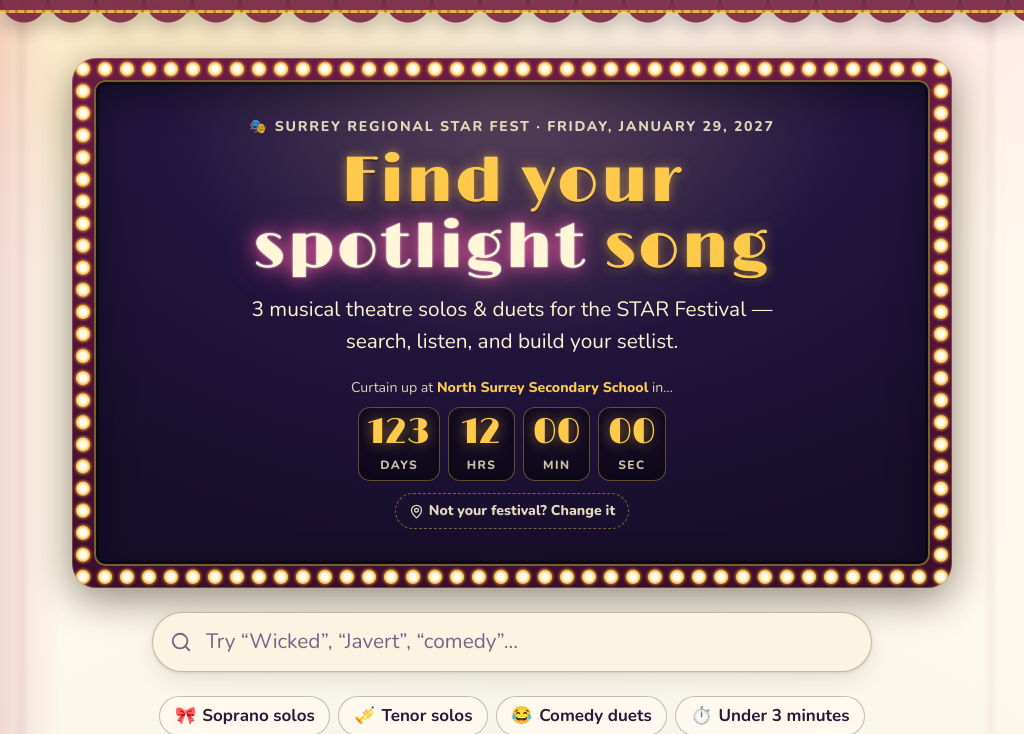
Test: HomePage festival hero (SPEC §7b) › “Not your festival? Change it” reveals the chips
Click the button with test id "home-change-festival": (512, 511) [395,493,629,529]
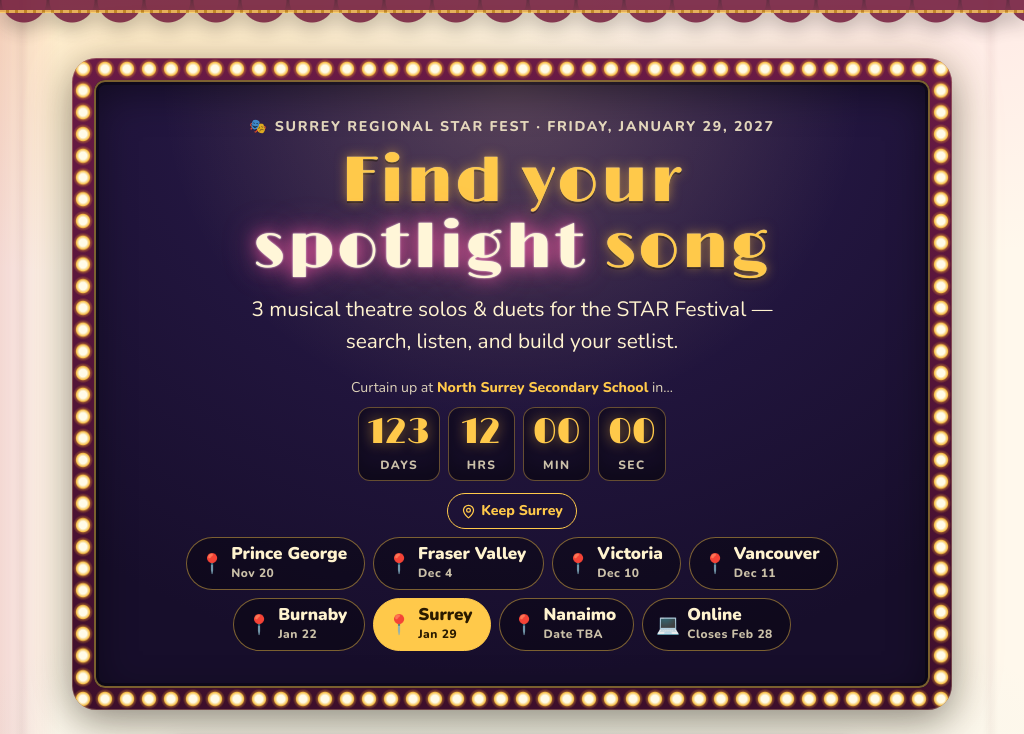
Expected: the button with test id "home-change-festival" is expanded, [448,493,577,529]
Click the button with test id "festival-chip-burnaby": (299, 625) [233,598,365,651]
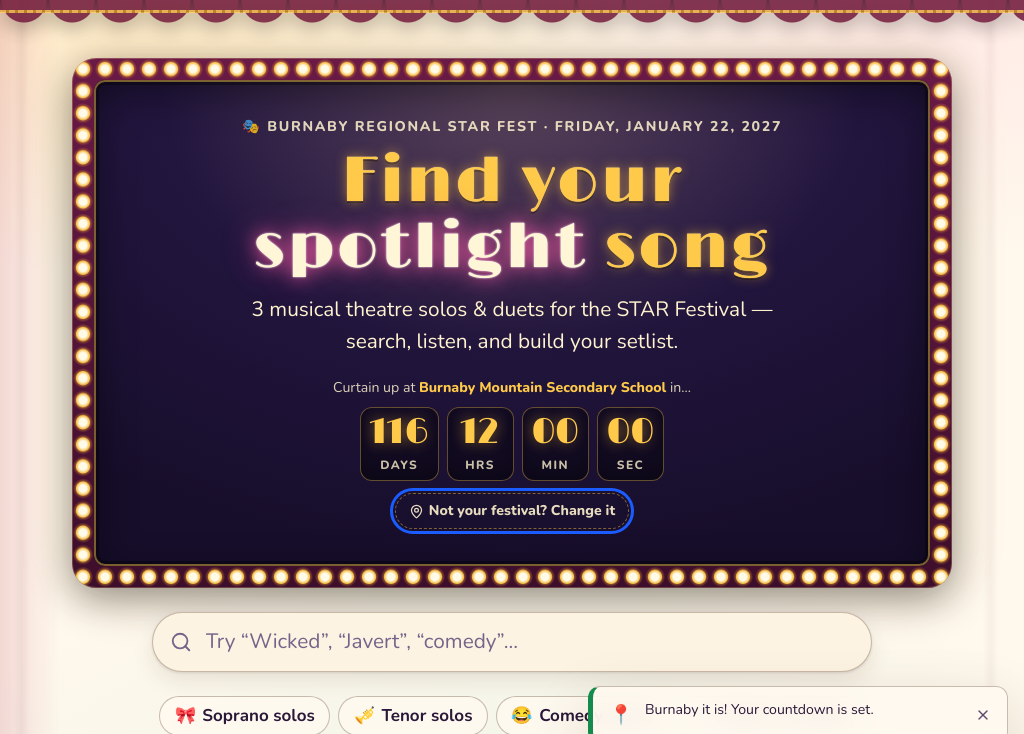
Expected: the element with test id "home-eyebrow" shows "Burnaby Regional STAR Fest", [267,118,782,136]
Expected: the button with test id "festival-chip-surrey" is gone
